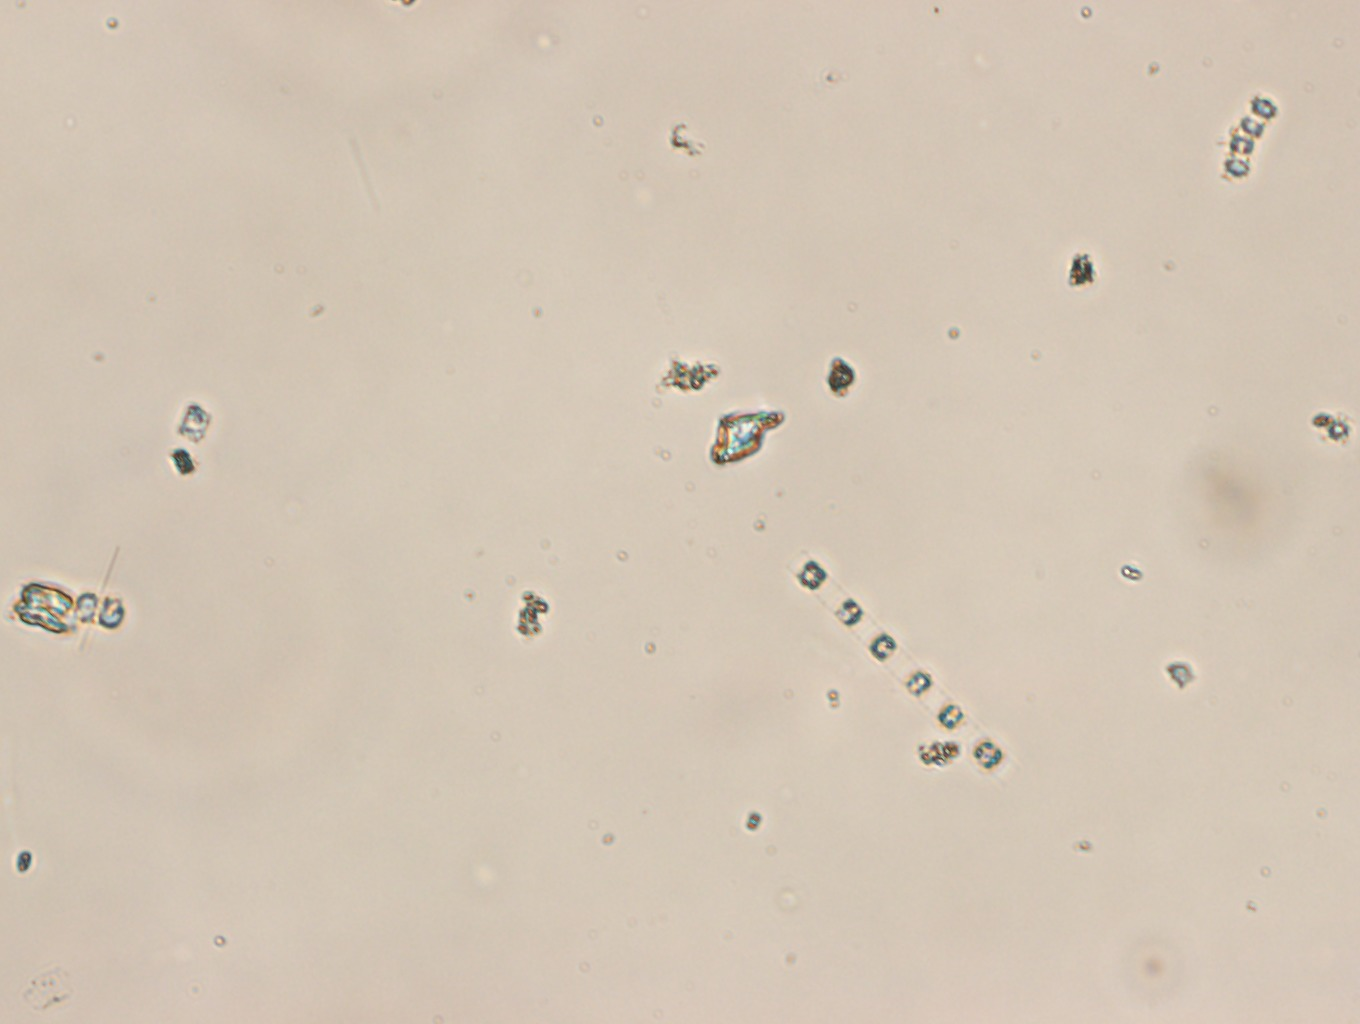chaetoceros: (1217, 90, 1283, 185)
skeletonema: (778, 545, 1014, 780)
